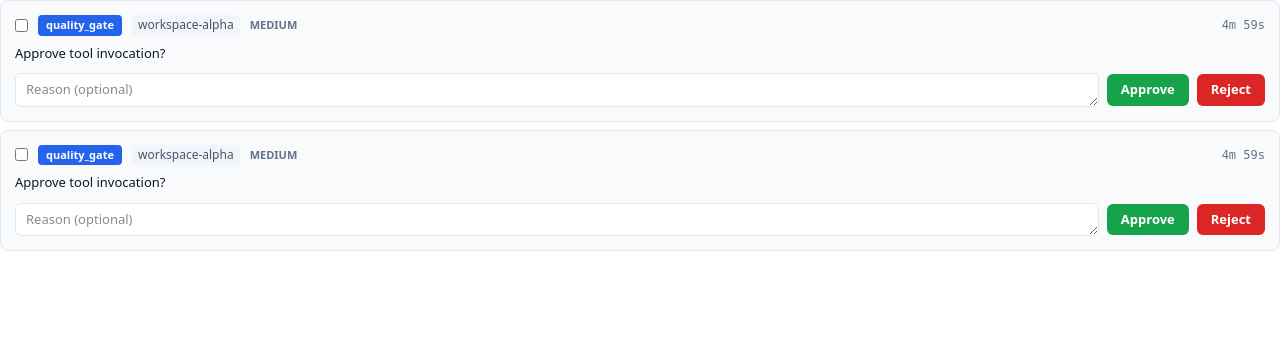
GateQueue › selecting another gate updates the selected count
Click the 1st checkbox.
click(22, 25)  # box [15,19,28,32]
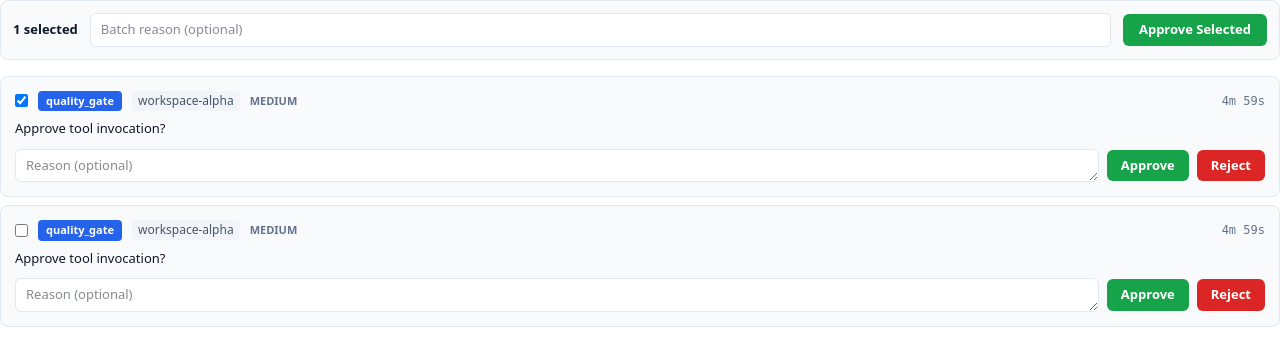
Click the 2nd checkbox.
click(22, 230)  # box [15,224,28,237]
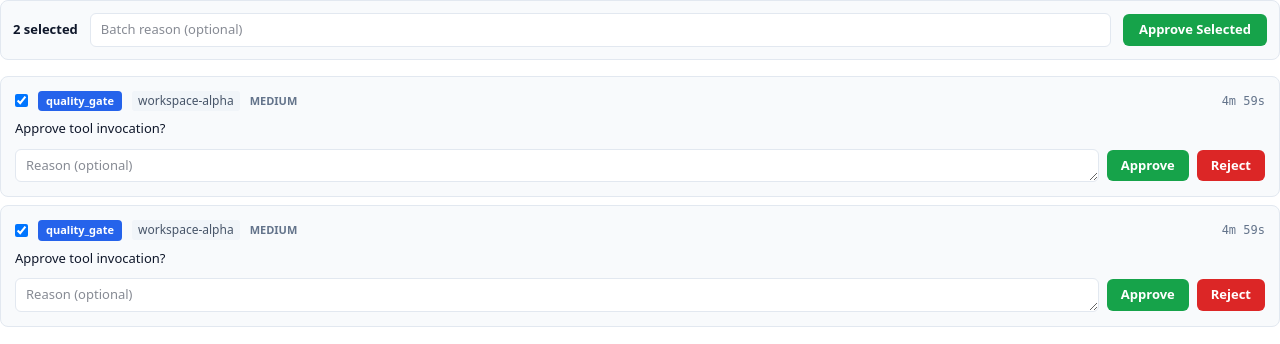
Check: the text "2 selected" is shown, box [13,20,78,40]
